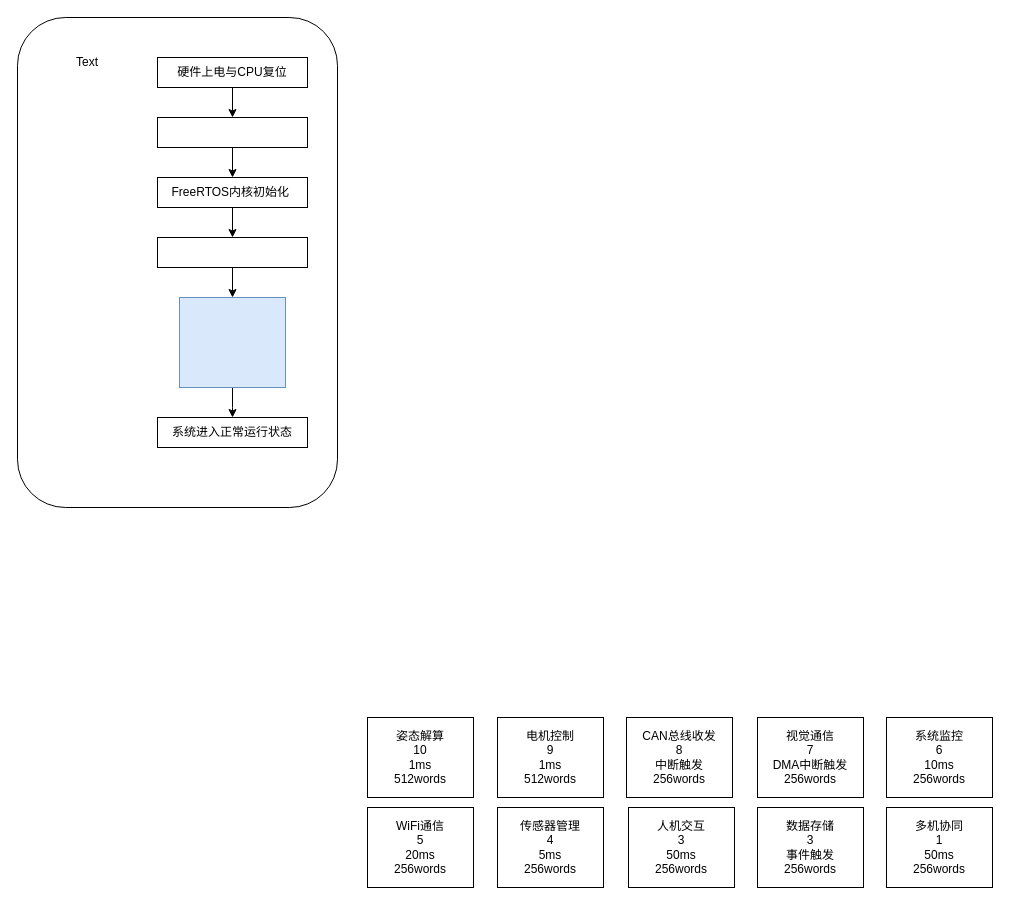
This 1010x905 diagram has some shape labels left out. The shapes that lost their labels are listed below. From the top down, each one's box as (x1, y1, x2, y2) in pixels, then its label:
(156, 116, 308, 148): 板级硬件初始化
(156, 236, 308, 268): 创建并启动初始化任务
(178, 296, 286, 388): 启动任务 11 1ms 1024words 生命周期：一次性
